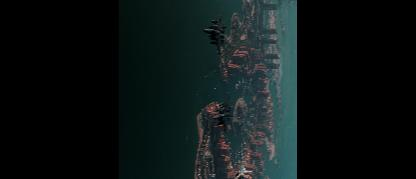F117: (204, 9, 235, 54), (212, 90, 240, 131)
RQ4: (234, 156, 255, 178)
